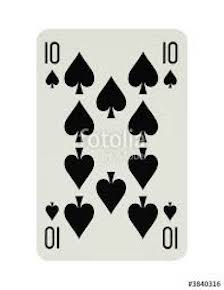TenOfSpades: (30, 25, 191, 263)
